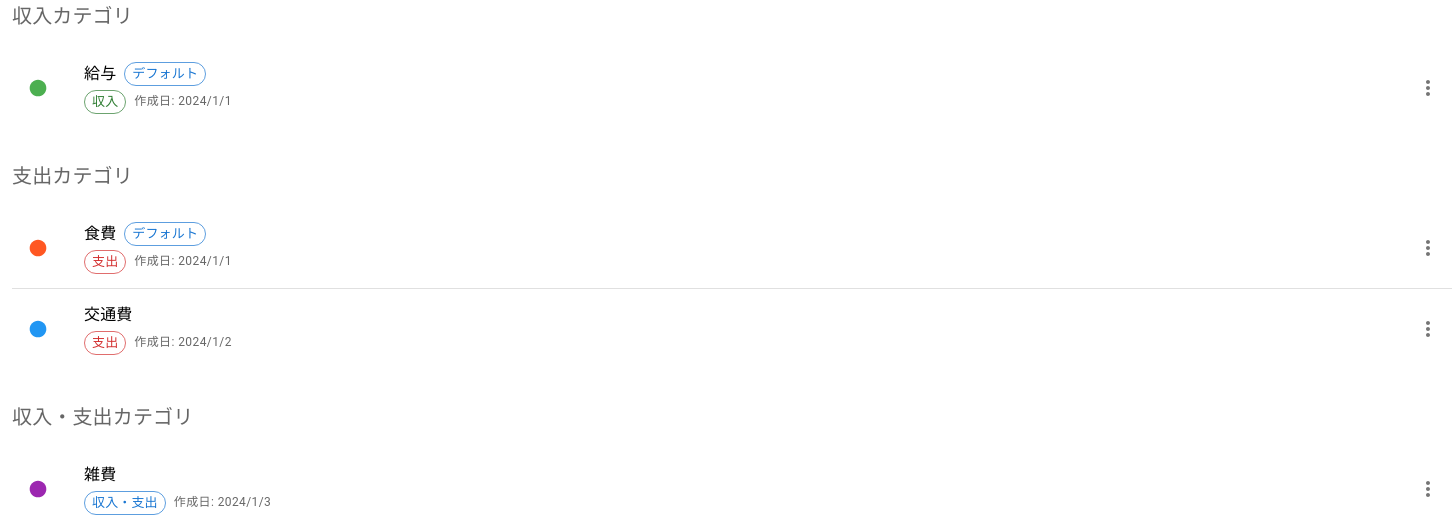
Test: CategoryList › opens context menu when more options button is clicked
The width and height of the screenshot is (1452, 532).
Click the button named "more options" in the row of "給与": coordinates (1428, 88) [1408,68,1448,108]
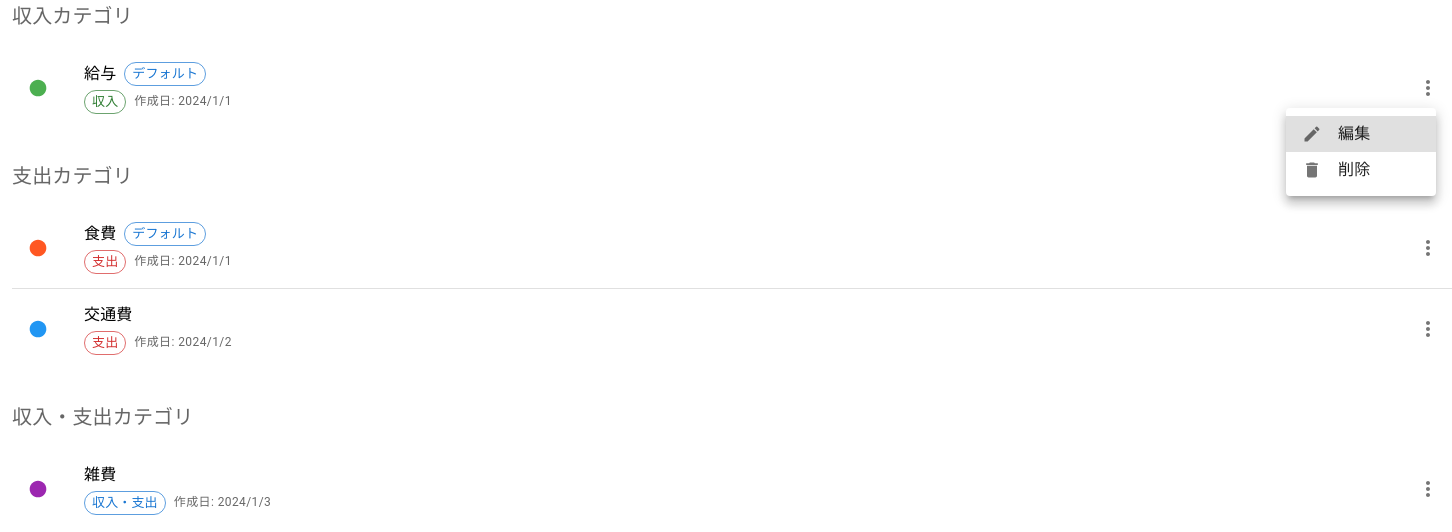
Expected: the menu item "編集" is shown, [1286,116,1436,152]
Expected: the menu item "削除" is shown, [1302,160,1370,180]
